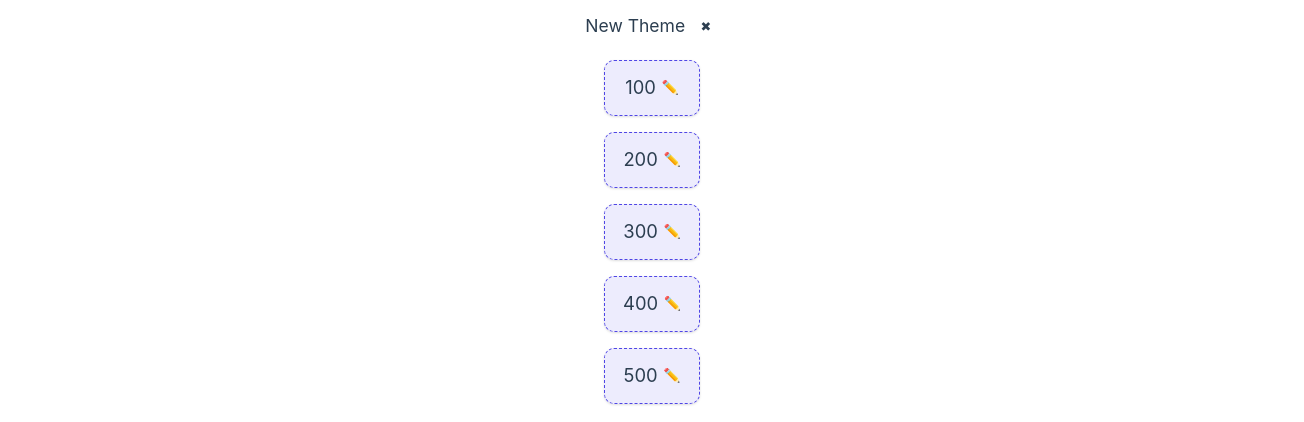
Test case: ThemeColumn › saves the theme title on blur
Click the heading with class "theme-header" at (635, 26), box [585,12,685,40]
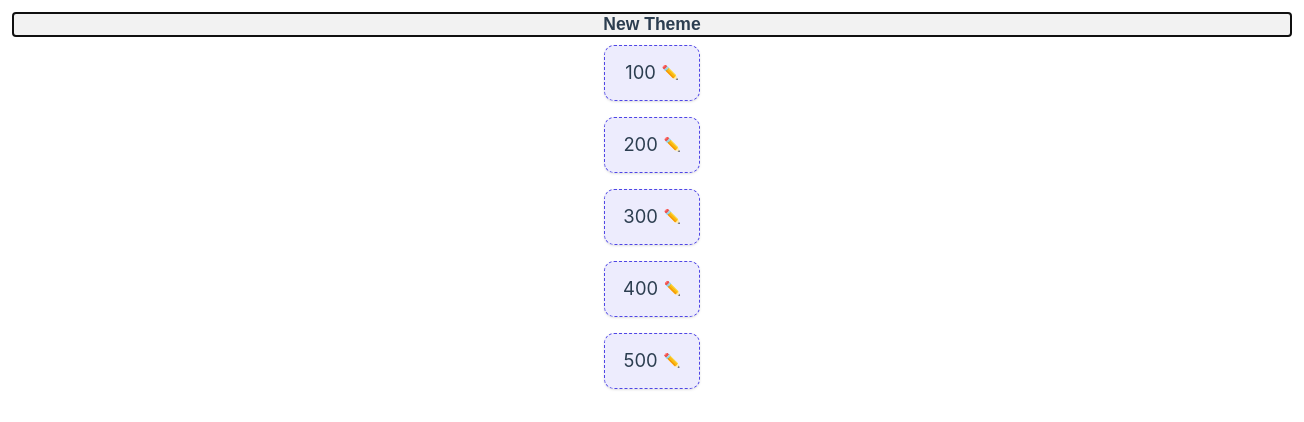
Replace the text in the field with class "theme-header-input" with "Geschichte" at (652, 24), box [12,12,1292,37]
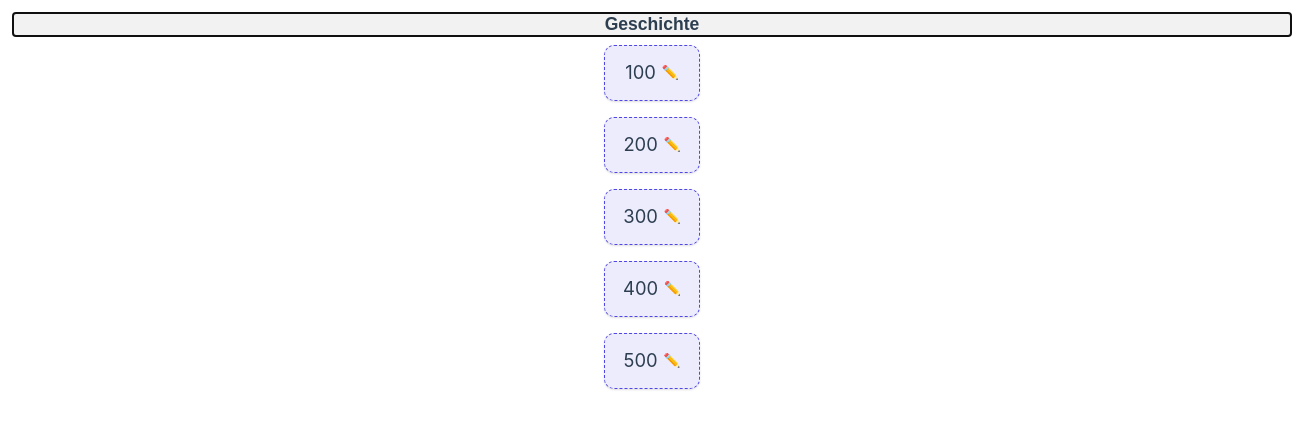
Leave the field with class "theme-header-input", box [12,12,1292,37]
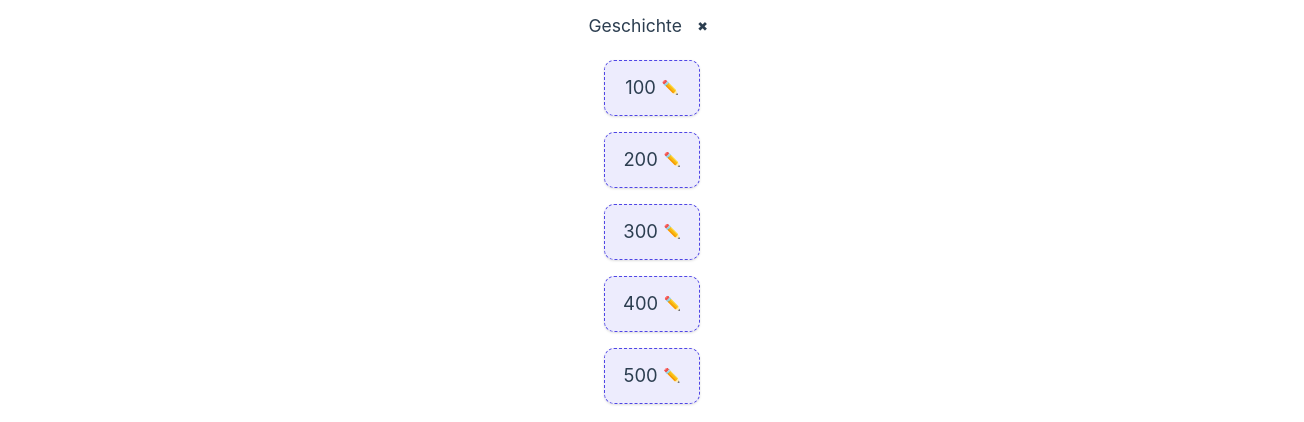
Now the heading "Geschichte" is shown, box [588,12,682,40]
